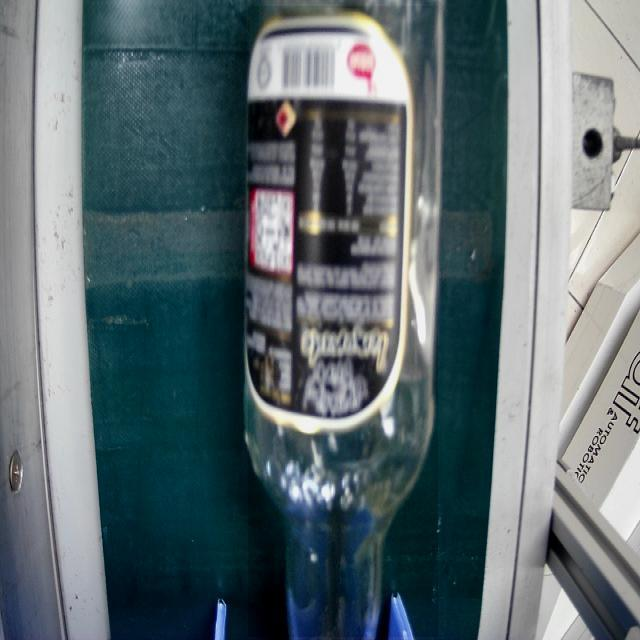Glass: (248, 6, 438, 637)
